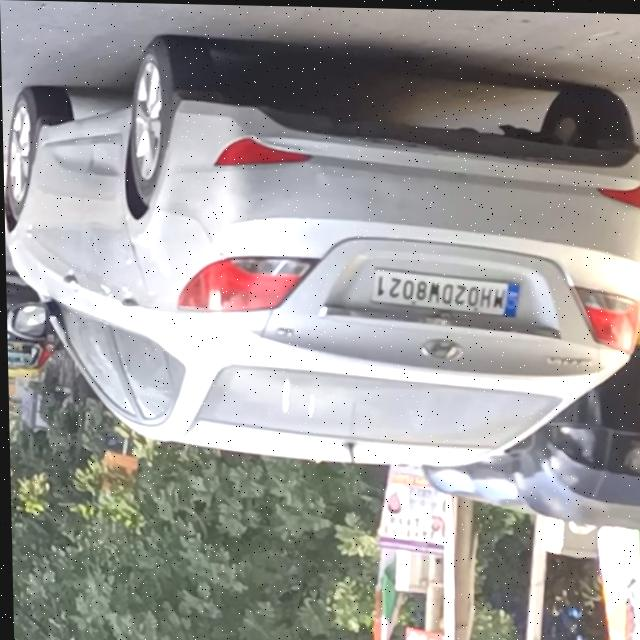plate: (360, 261, 537, 320)
